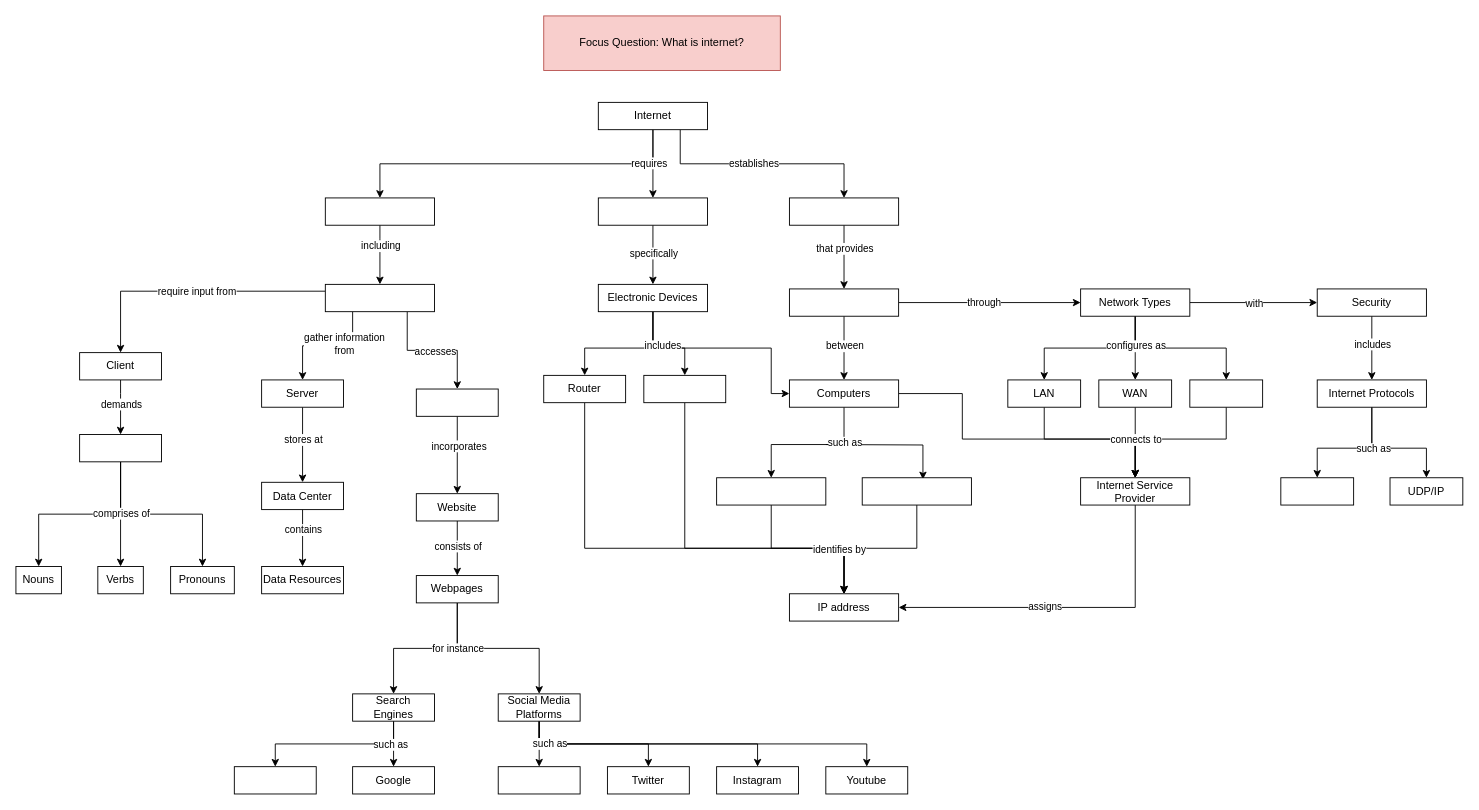
Some shapes in this 1479 by 810 pixel diagram are drawn without their labels. Each missing label, with the box of its shape:
Baidu: (233, 766, 316, 794)
Communication: (789, 288, 899, 316)
Facebook: (497, 766, 580, 794)
Hardware: (597, 197, 708, 225)
Laptops: (861, 477, 971, 505)
Mobile Phones: (716, 477, 826, 505)
Modem: (643, 374, 726, 403)
Network: (789, 197, 899, 225)
Questions: (79, 434, 162, 462)
Software: (324, 197, 435, 225)
TCP/IP: (1280, 477, 1354, 505)
URL: (415, 388, 498, 416)
Web Browsers: (324, 283, 435, 312)
Wi-Fi: (1189, 379, 1263, 407)
